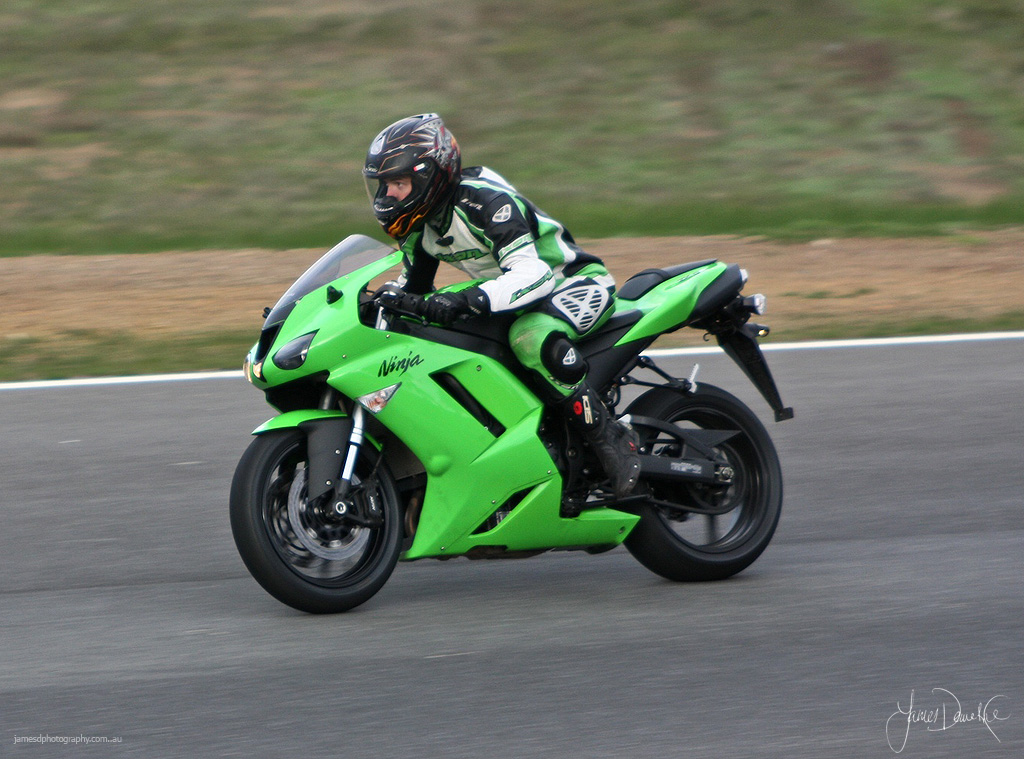helmet: (361, 110, 462, 225)
